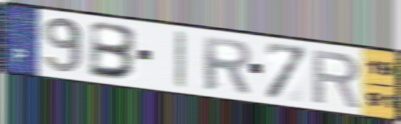7: (264, 41, 308, 102)
9: (42, 16, 84, 75)
B: (86, 19, 140, 81)
I: (173, 29, 188, 91)
R: (200, 34, 254, 96), (311, 47, 363, 110)
